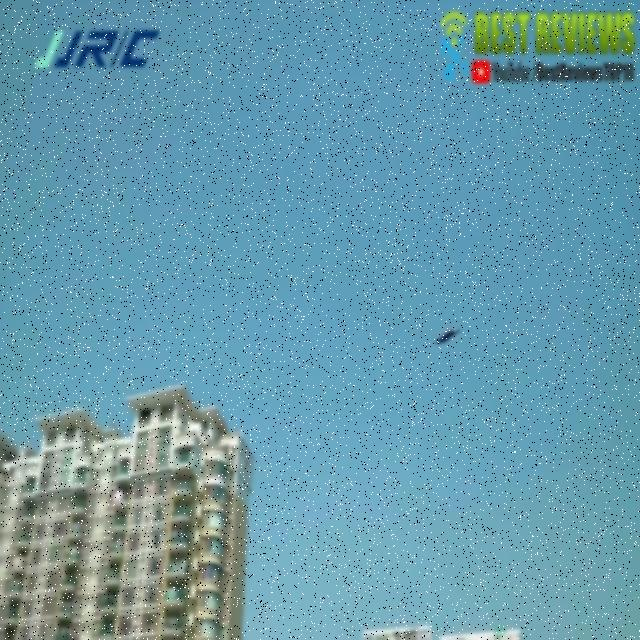UAV: (436, 329, 460, 345)
